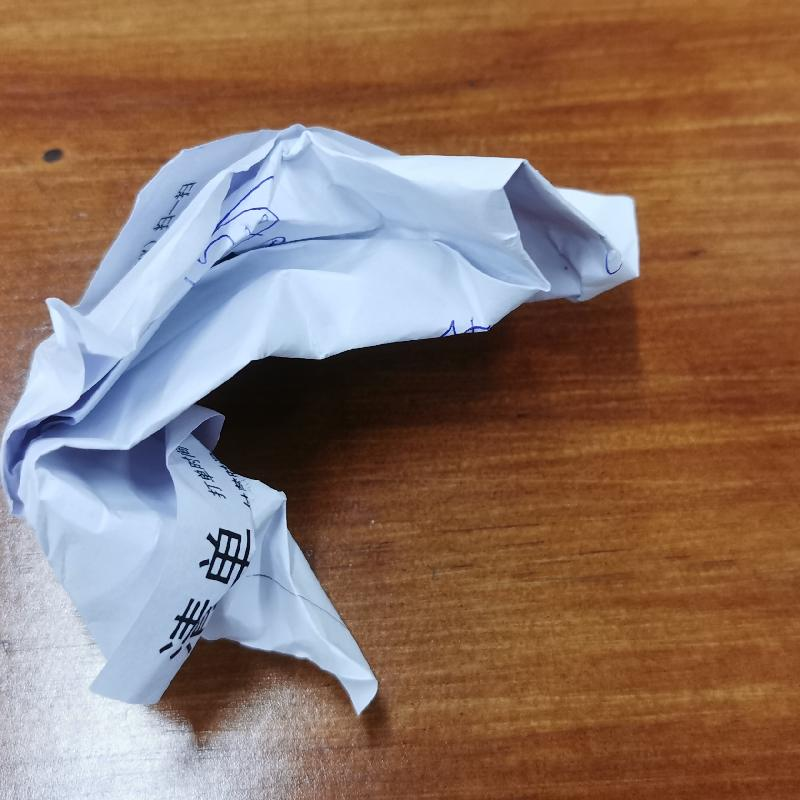spitball: (2, 122, 649, 731)
